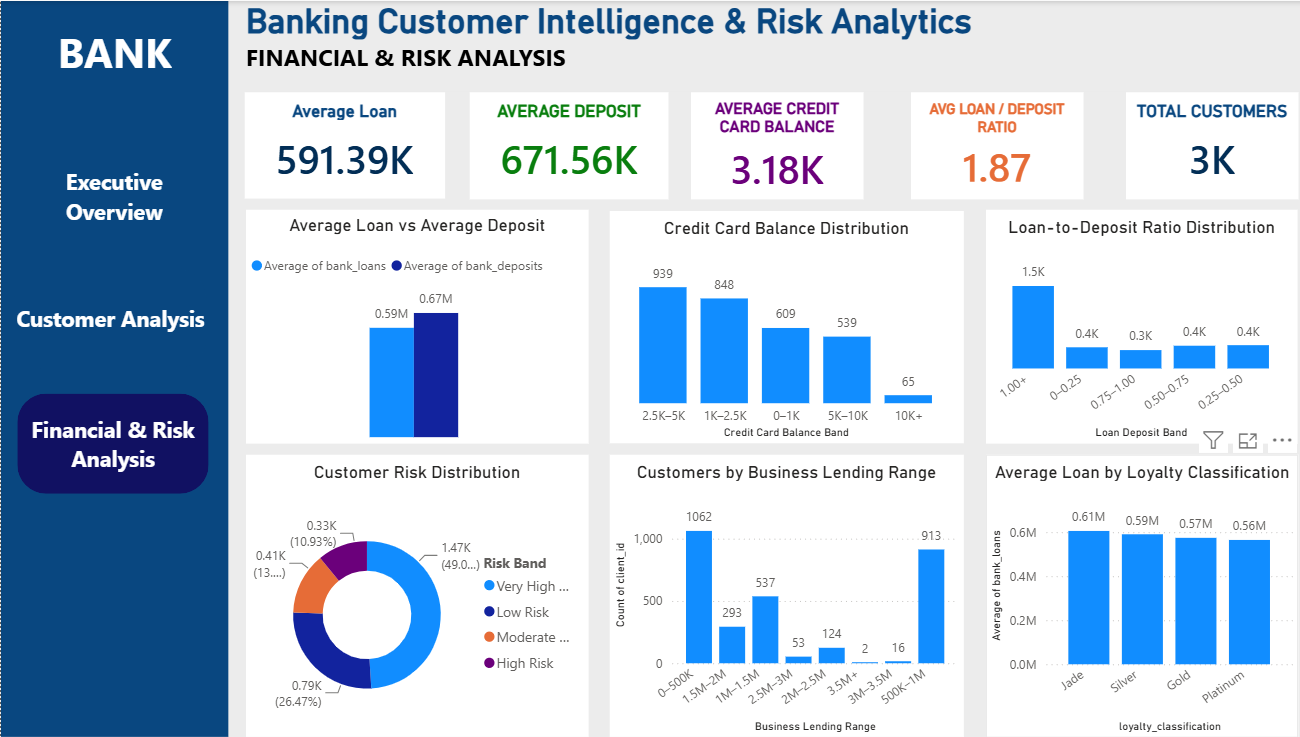

The page's visual inventory and layout, read from the dashboard file:
{"tool":"powerbi","page":{"name":"Financial & Risk Analysis","canvas":[1280,720],"ordinal":2},"visuals":[{"type":"shape","box":[0,0,222.4,719.9],"z":0},{"type":"shape","box":[17.1,141.8,187.3,98],"z":1000},{"type":"shape","title":"Executive Overview","box":[15.3,384.2,187.3,98],"z":2000},{"type":"shape","box":[14,261.7,187.3,98],"z":3000},{"type":"shape","title":"Banking Customer Intelligence & Risk Analytics","box":[239.7,0,1040.3,112.7],"z":4000},{"type":"cardVisual","title":"Average Loan","fields":{"Data":["Avg(public banking_customers.bank_loans)"]},"box":[238.5,89.3,195.7,103.9],"z":5000},{"type":"cardVisual","title":"AVERAGE DEPOSIT","fields":{"Data":["Avg(public banking_customers.bank_deposits)"]},"box":[458.6,89.3,194.4,105.2],"z":6000},{"type":"cardVisual","title":"AVERAGE CREDIT CARD BALANCE","fields":{"Data":["Avg(public banking_customers.credit_card_balance)"]},"box":[675,89.3,168.4,105],"z":7000},{"type":"cardVisual","title":"AVG LOAN / DEPOSIT RATIO","fields":{"Data":["Avg(public banking_customers.loan_deposit_ratio)"]},"box":[890.2,89.3,168.4,105],"z":8000},{"type":"cardVisual","title":"TOTAL CUSTOMERS","fields":{"Data":["CountNonNull(public banking_customers.client_id)"]},"box":[1100.5,89.3,168.4,105],"z":9000},{"type":"clusteredColumnChart","title":"Average Loan vs Average Deposit","fields":{"Y":["Avg(public banking_customers.bank_loans)","Avg(public banking_customers.bank_deposits)"]},"box":[239.7,204.2,335.1,228.7],"z":10000},{"type":"clusteredColumnChart","title":"Credit Card Balance Distribution","fields":{"Category":["public banking_customers.Credit Card Balance Band"],"Y":["CountNonNull(public banking_customers.client_id)"]},"box":[595.5,205.4,346.1,227.4],"z":11000},{"type":"clusteredColumnChart","title":"Loan-to-Deposit Ratio Distribution","fields":{"Category":["public banking_customers.Loan Deposit Band"],"Y":["CountNonNull(public banking_customers.client_id)"]},"box":[963.6,204.2,304.5,228.7],"z":12000},{"type":"donutChart","title":"Customer Risk Distribution","fields":{"Category":["public banking_customers.Risk Band"],"Y":["CountNonNull(public banking_customers.client_id)"]},"box":[239.7,443.9,335.1,276.4],"z":13000},{"type":"clusteredColumnChart","title":"Customers by Business Lending Range","fields":{"Y":["CountNonNull(public banking_customers.client_id)"],"Category":["public banking_customers.Business Lending Range"]},"box":[595.5,443.9,346.1,276.4],"z":14000},{"type":"clusteredColumnChart","title":"Average Loan by Loyalty Classification","fields":{"Category":["public banking_customers.loyalty_classification"],"Y":["Avg(public banking_customers.bank_loans)"]},"box":[963.6,443.9,305.7,276.4],"z":15000}]}

Visuals, with their boxes in screenshot pixels (x1, y1, x2, y2), scaled from the page's 1280x720 canvas onto the 1300x737 screenshot:
shape: crop(0, 0, 226, 736)
shape: crop(17, 145, 208, 245)
"Executive Overview" shape: crop(16, 393, 206, 494)
shape: crop(14, 268, 204, 368)
"Banking Customer Intelligence & Risk Analytics" shape: crop(243, 0, 1299, 115)
"Average Loan" cardVisual: crop(242, 91, 441, 198)
"AVERAGE DEPOSIT" cardVisual: crop(466, 91, 663, 199)
"AVERAGE CREDIT CARD BALANCE" cardVisual: crop(686, 91, 857, 199)
"AVG LOAN / DEPOSIT RATIO" cardVisual: crop(904, 91, 1075, 199)
"TOTAL CUSTOMERS" cardVisual: crop(1118, 91, 1289, 199)
"Average Loan vs Average Deposit" clusteredColumnChart: crop(243, 209, 584, 443)
"Credit Card Balance Distribution" clusteredColumnChart: crop(605, 210, 956, 443)
"Loan-to-Deposit Ratio Distribution" clusteredColumnChart: crop(979, 209, 1288, 443)
"Customer Risk Distribution" donutChart: crop(243, 454, 584, 736)
"Customers by Business Lending Range" clusteredColumnChart: crop(605, 454, 956, 736)
"Average Loan by Loyalty Classification" clusteredColumnChart: crop(979, 454, 1289, 736)
